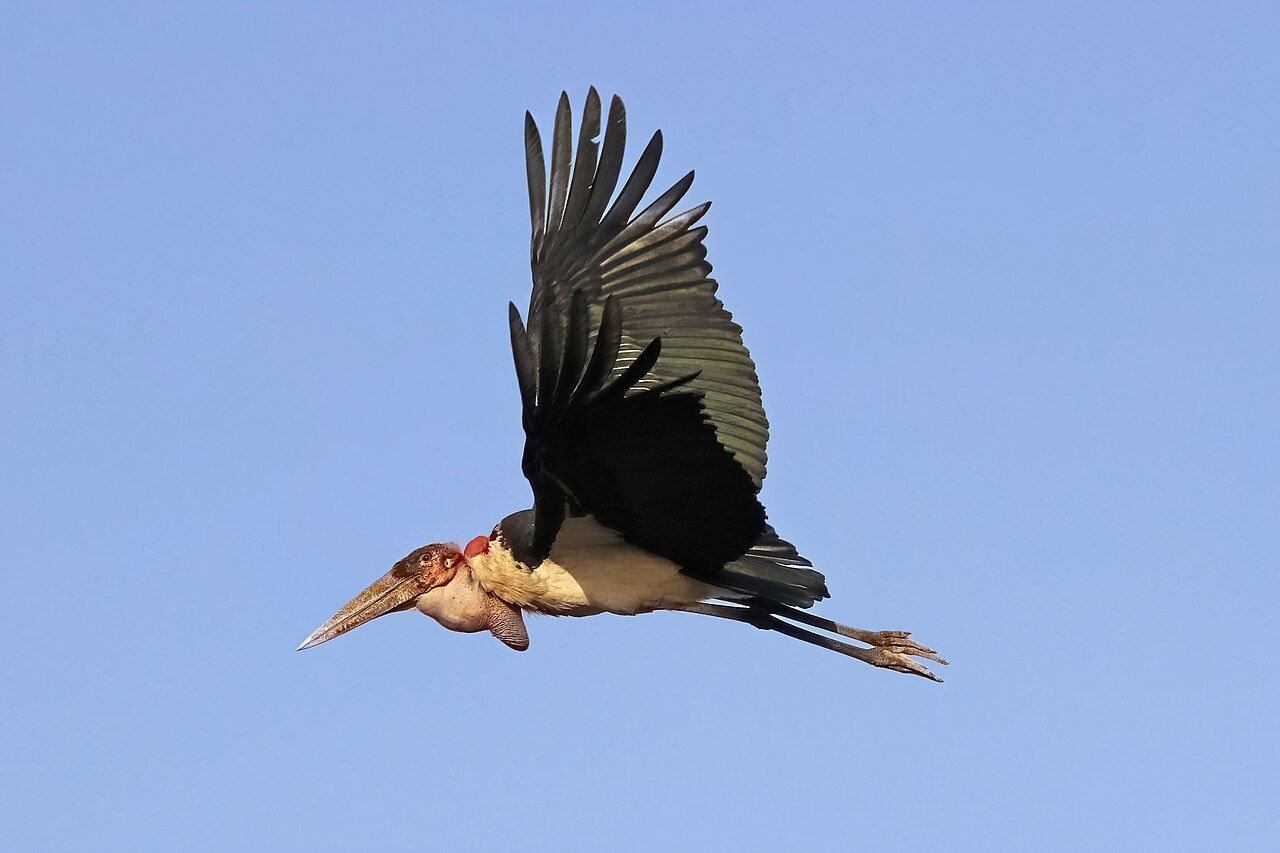bird: (294, 64, 951, 682)
